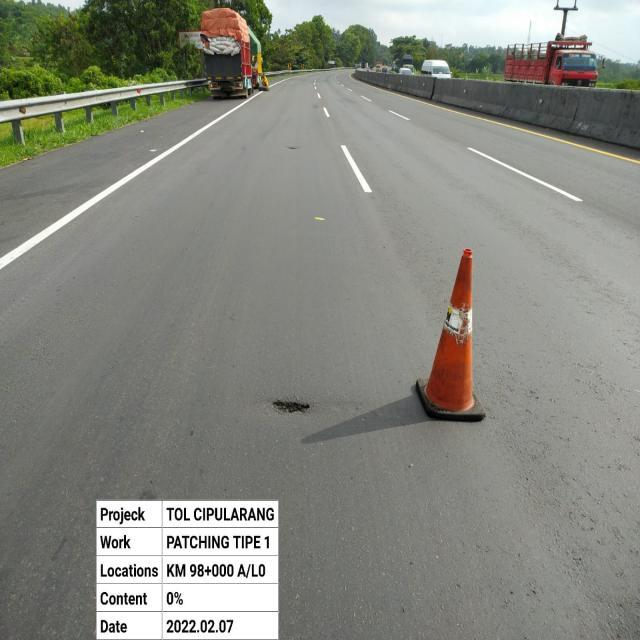Buraco: (266, 398, 314, 417), (285, 144, 300, 151)
